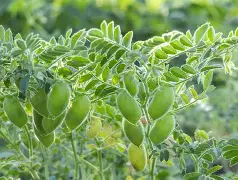crops: (0, 1, 235, 176)
